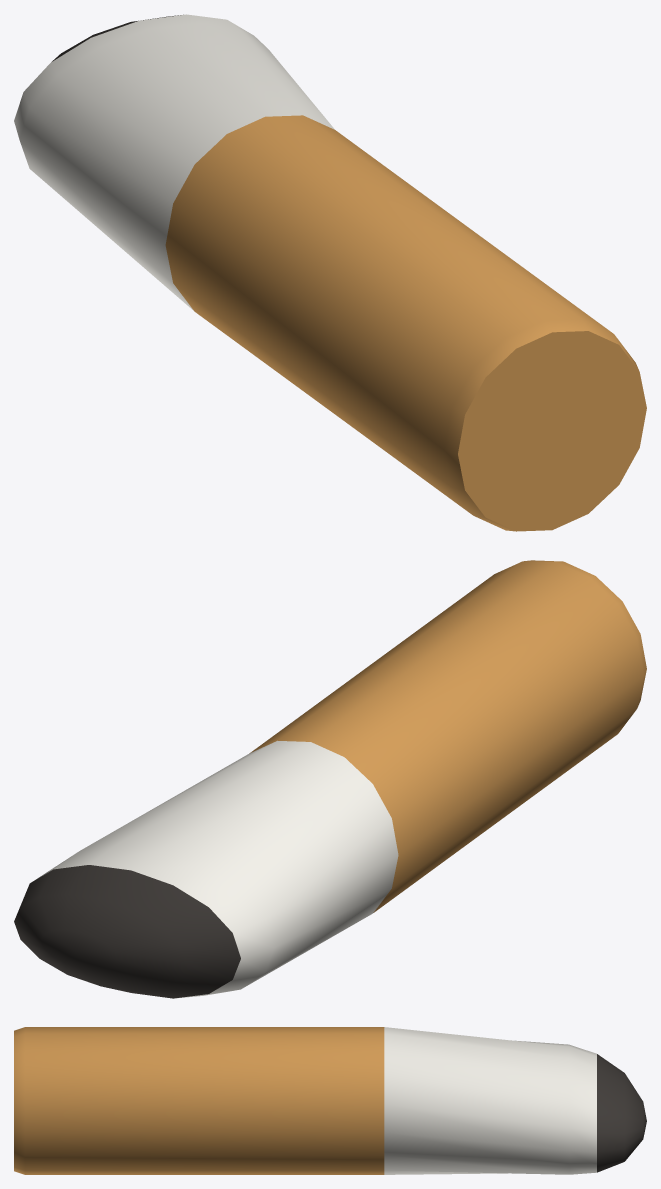
Rendered from cigarette_butt.glb.
3 renders of one model, top to bottom at view 1: azimuth 30°, elevation 25°; view 2: azimuth 150°, elevation 25°; view 3: azimuth 270°, elevation 25°, orthographic. The views are drawn at different scales.
Visible parts, largest first — view 1: cigarette_butt; view 2: cigarette_butt; view 3: cigarette_butt.
Boxes of the visible parts, x1,y1,x2,y2 form: cigarette_butt: (14, 14, 646, 531); cigarette_butt: (14, 560, 646, 998); cigarette_butt: (14, 1027, 646, 1174).
Bounding box in the file's own units: 0.0281 × 0.0211 × 0.09.
